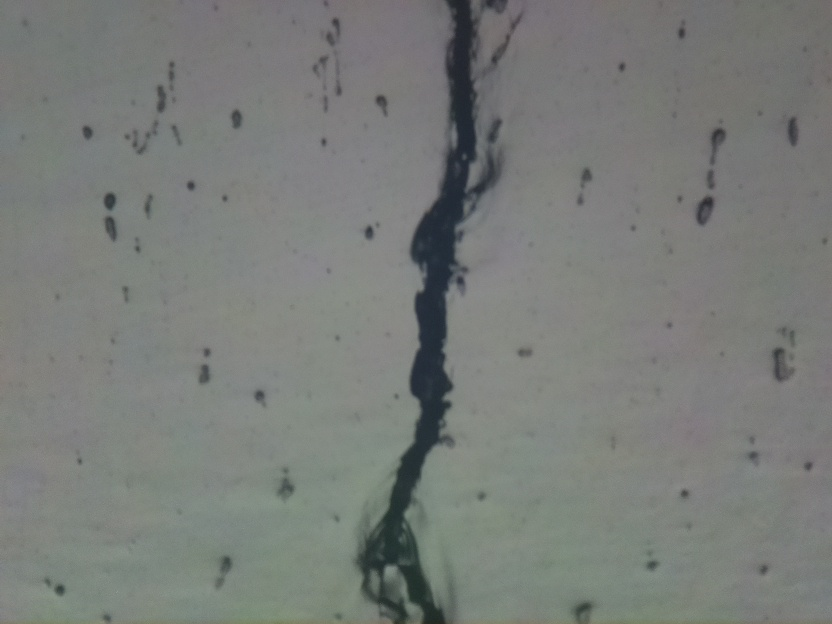crack: (358, 0, 480, 624)
